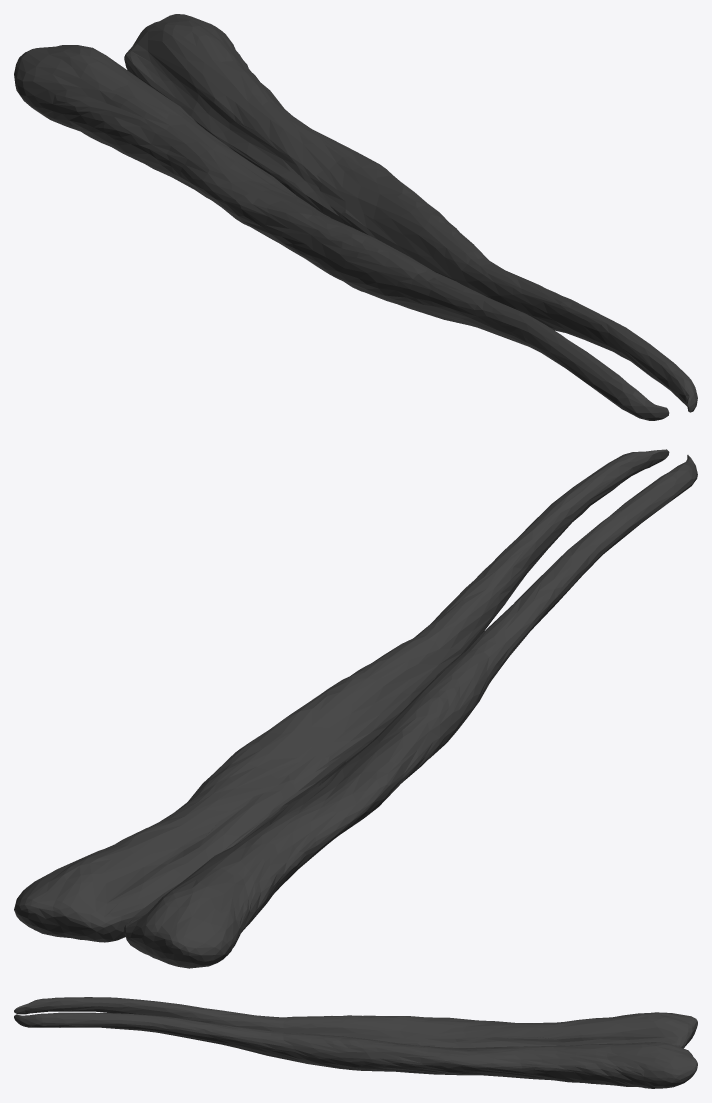
The model's file is m_longissimus_thoracis_lumborum.glb.
The picture shows the model from 3 angles, top to bottom: view 1: azimuth 30°, elevation 25°; view 2: azimuth 150°, elevation 25°; view 3: azimuth 270°, elevation 25°; orthographic projection. The views are drawn at different scales.
Visible parts, largest first — view 1: m_longissimus_thoracis_lumborum; view 2: m_longissimus_thoracis_lumborum; view 3: m_longissimus_thoracis_lumborum.
Boxes of the visible parts, x1=… form: m_longissimus_thoracis_lumborum: x1=14, y1=14, x2=697, y2=420; m_longissimus_thoracis_lumborum: x1=14, y1=449, x2=697, y2=968; m_longissimus_thoracis_lumborum: x1=14, y1=997, x2=697, y2=1088.
Size of the model in its own units: 0.00267 by 0.00138 by 0.0131.
1 material, 1 textured.
